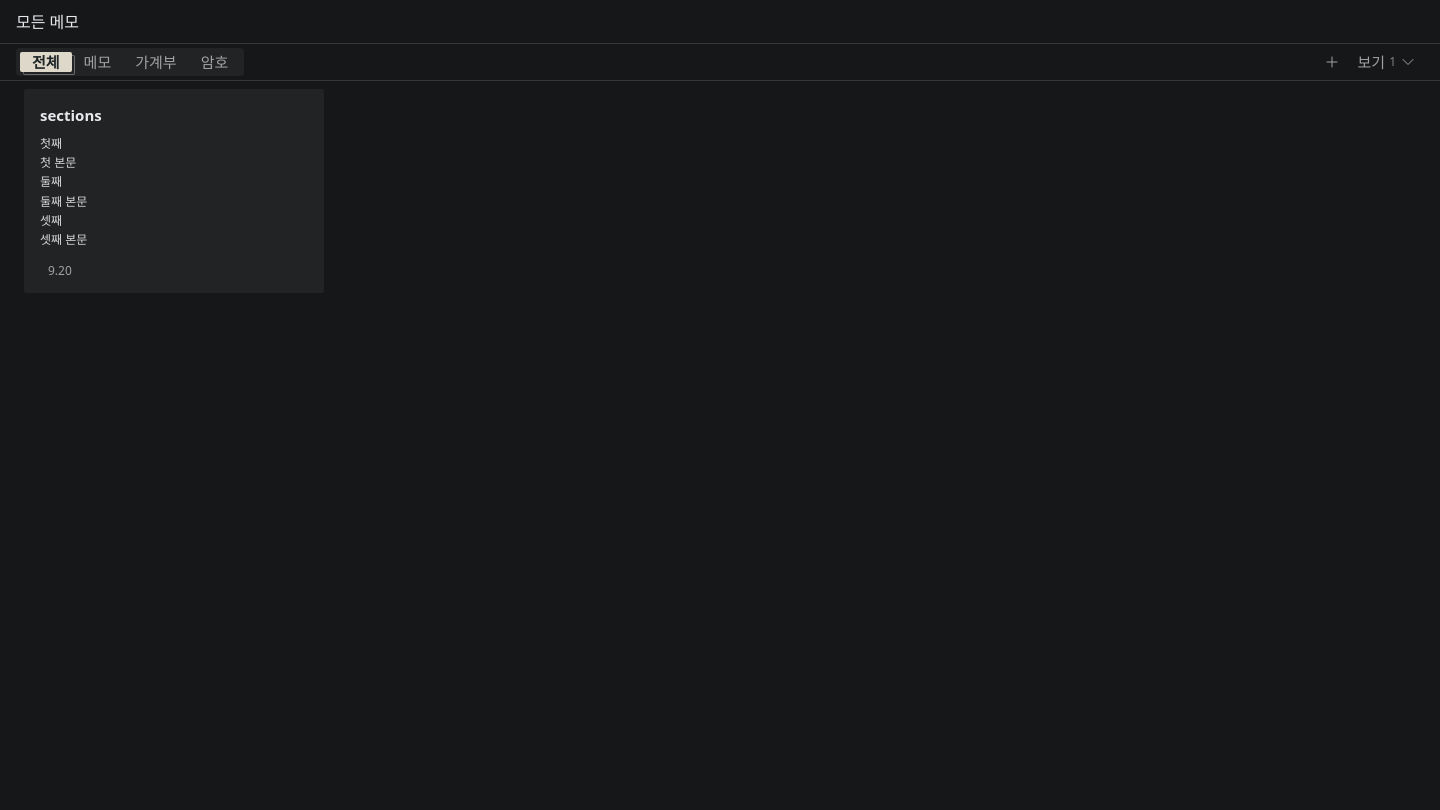
Test case: edits one section without touching its neighbors and resets section chips on reopen
The image size is (1440, 810).
Step 1. Click the button "sections 첫째 첫 본문 둘째 둘째 본문 셋째 셋째 본문 9.20" → (71, 115), box [24, 89, 324, 293]
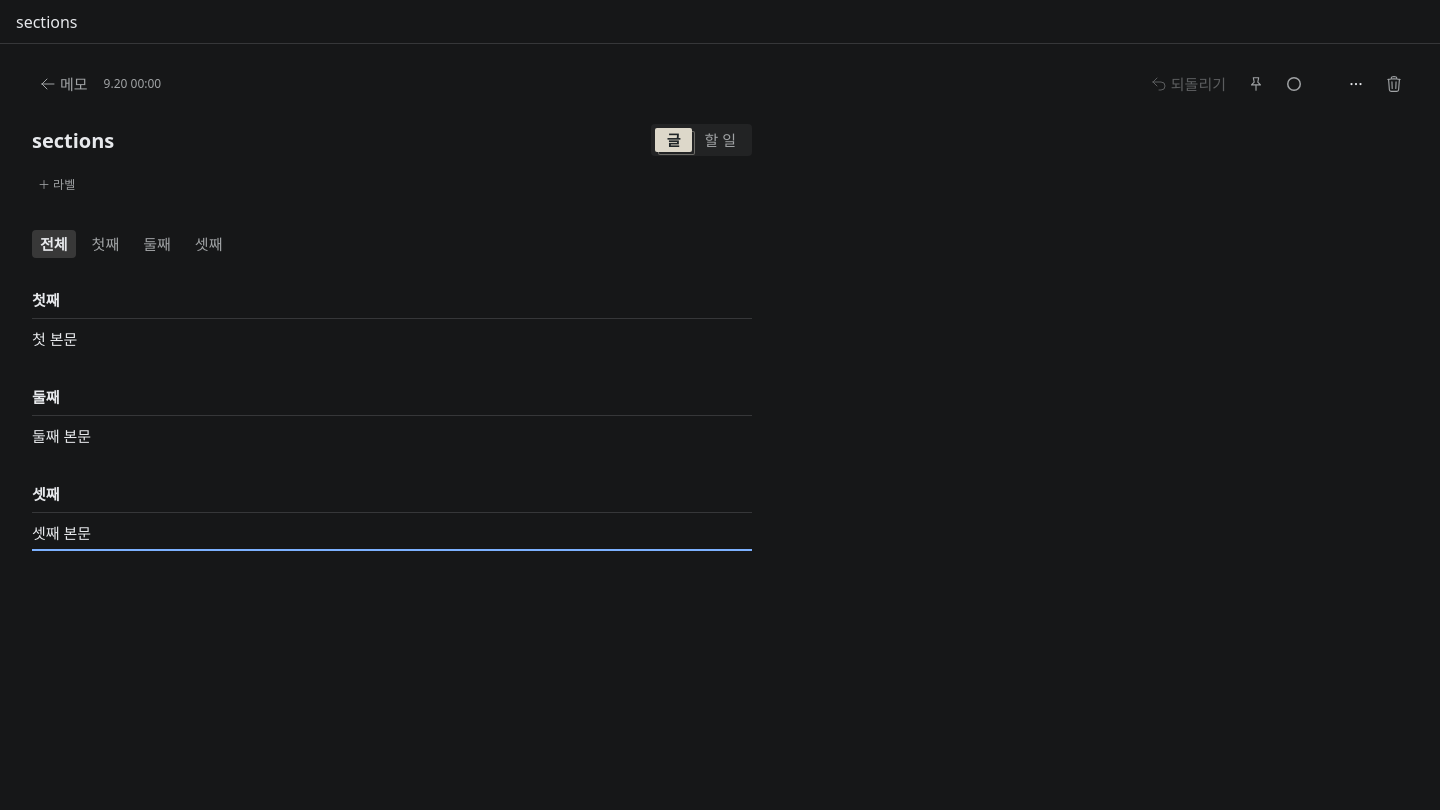
Step 2. Replace the text in the 1st text box named "메모 본문" with "첫 변경" → (392, 339), box [32, 323, 752, 355]
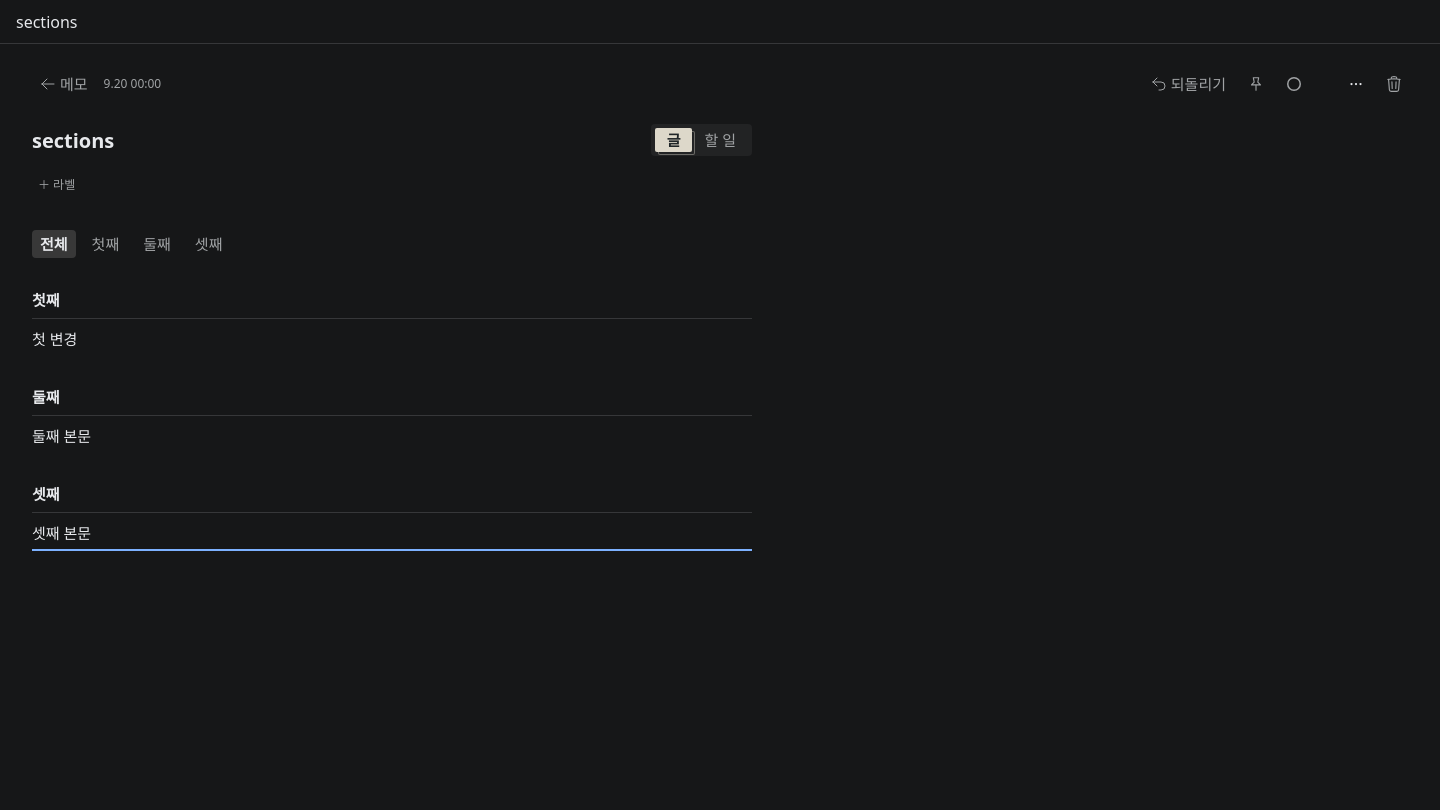
Step 3. Click the button "둘째" → (157, 244), box [135, 230, 179, 258]
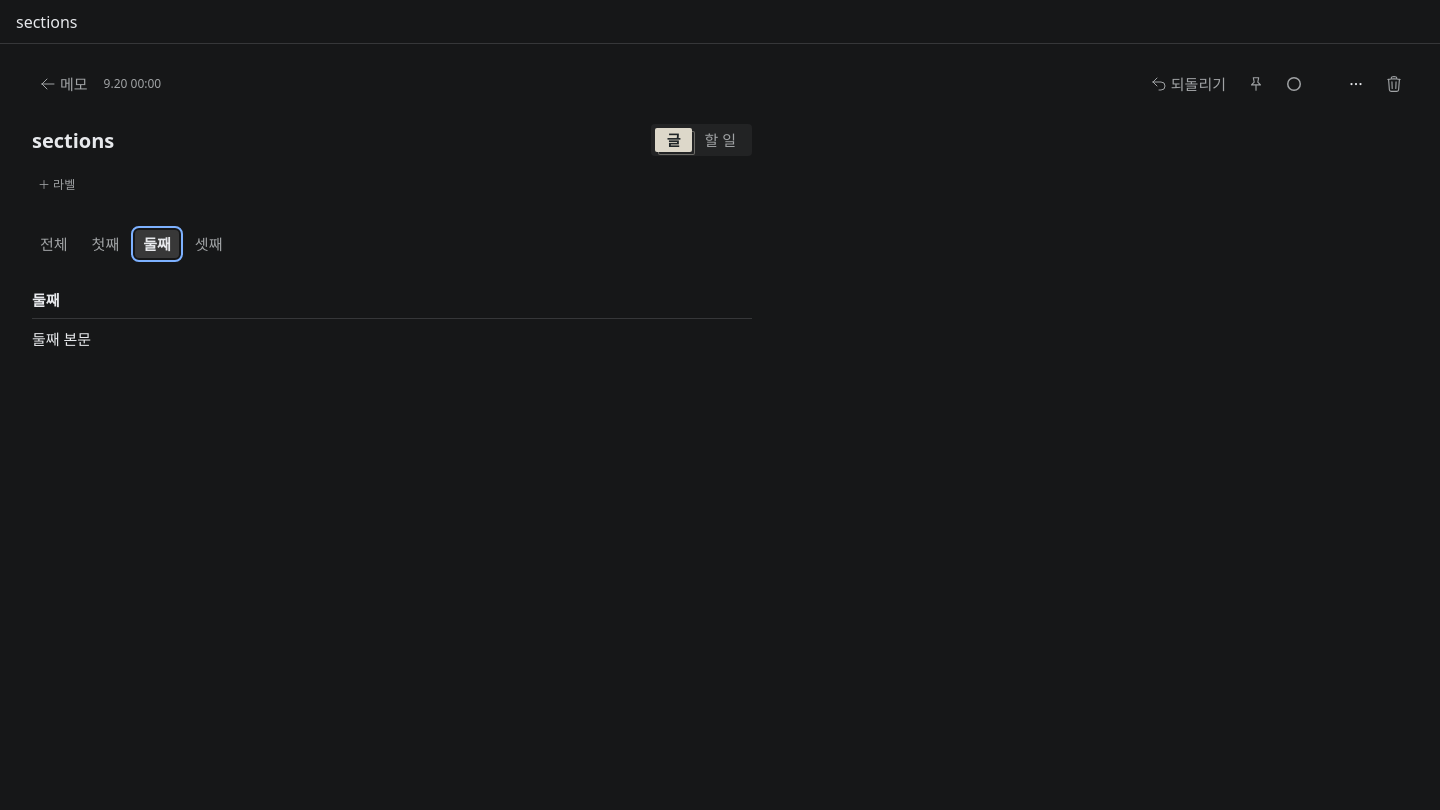
Result: the text box named "메모 본문" holds "둘째 본문" at [32, 323, 752, 355]
Result: the number of text boxes named "메모 본문" is 1 at [32, 323, 752, 355]
Step 4. Click the button with aria-label "메모 닫기" → (64, 84), box [32, 70, 96, 98]
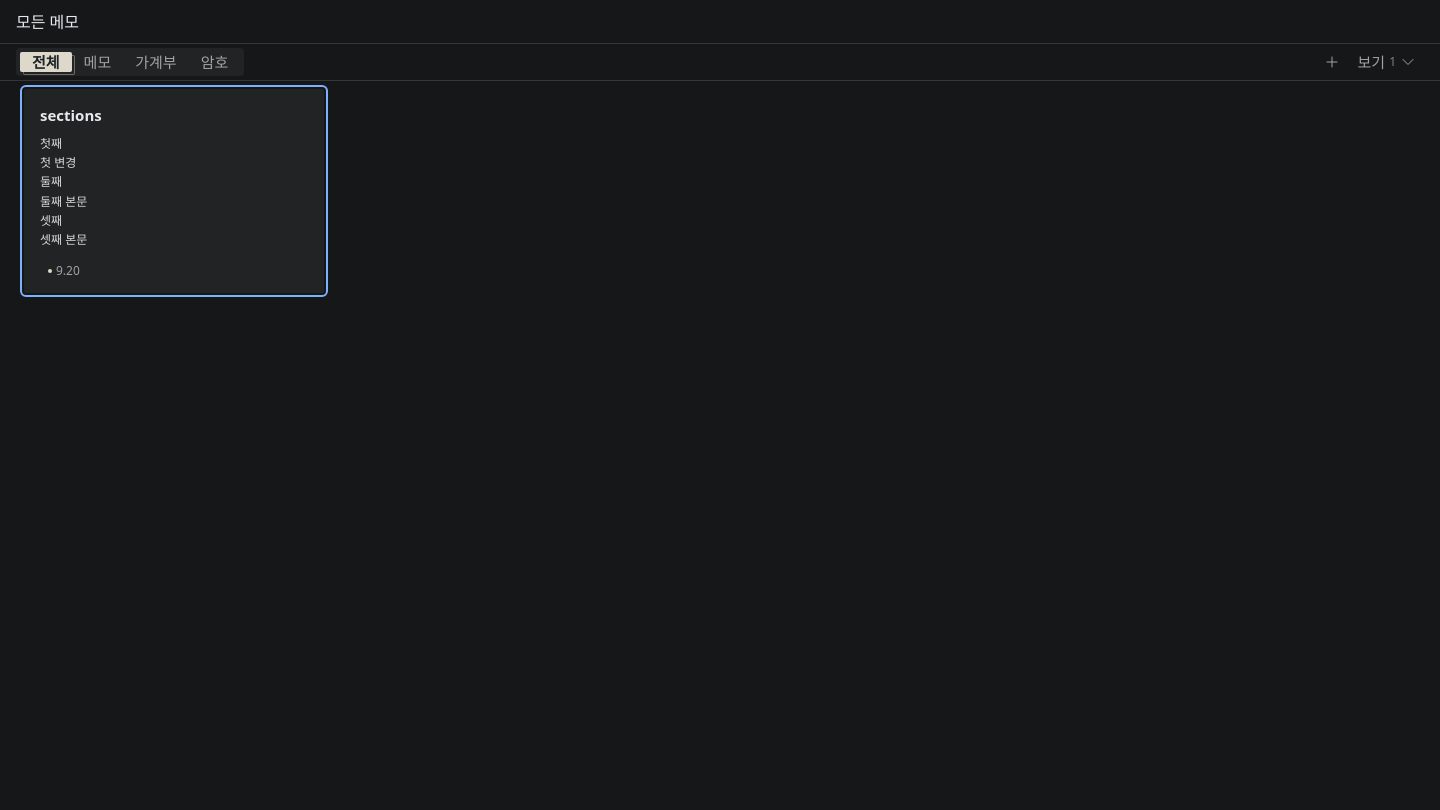
Step 5. Click the button "sections 첫째 첫 변경 둘째 둘째 본문 셋째 셋째 본문 9.20" → (71, 115), box [24, 89, 324, 293]
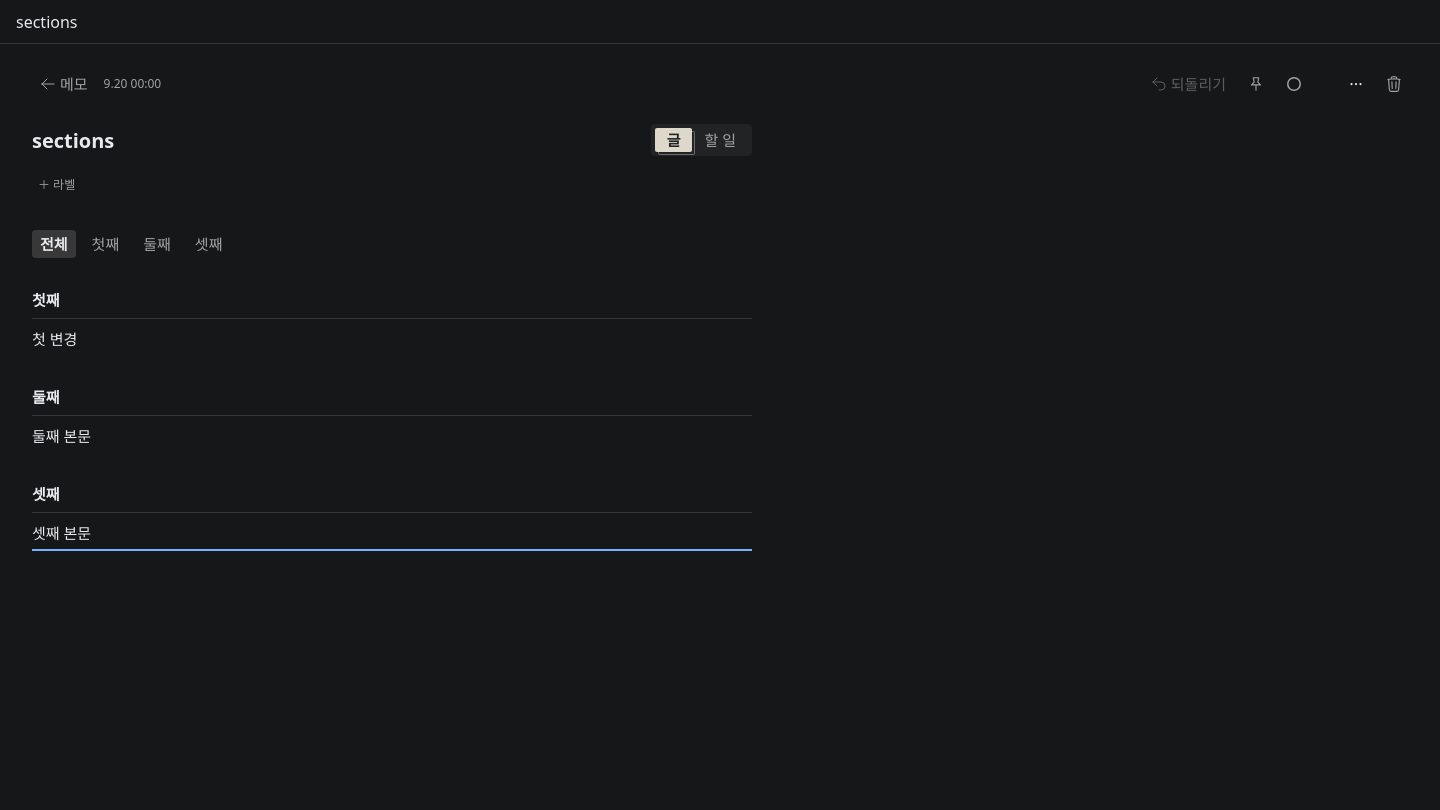
Result: the number of text boxes named "메모 본문" is 3 at [32, 323, 752, 355]; [32, 420, 752, 452]; [32, 517, 752, 549]
